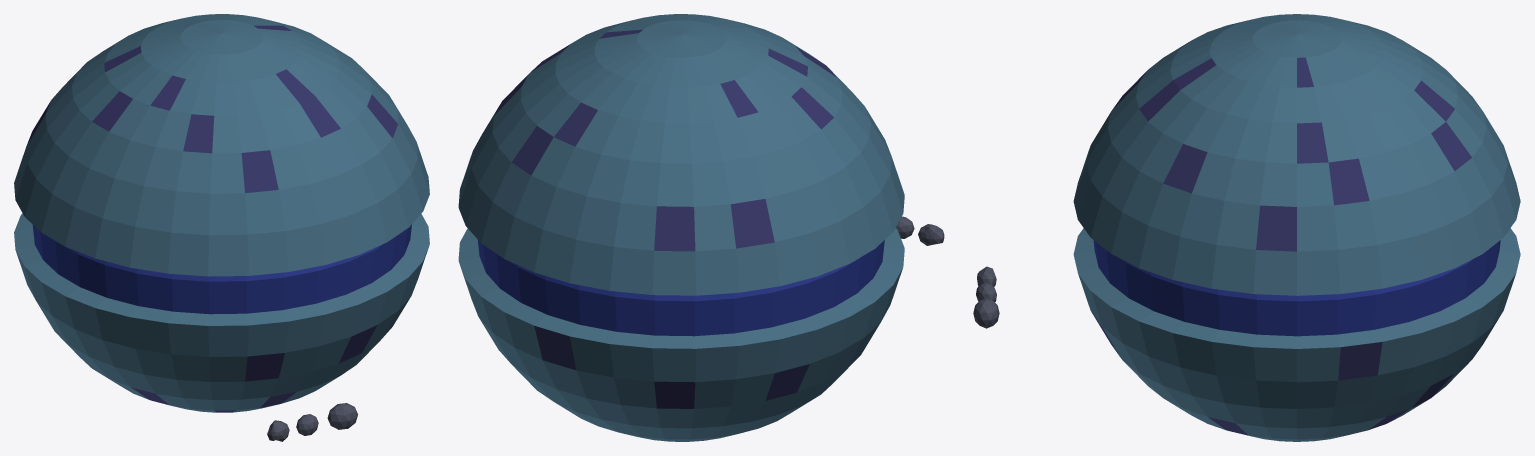
Rendered from Blue planet with asteroids.fbx.
3 renders of one model, left to right at view 1: azimuth 30°, elevation 25°; view 2: azimuth 150°, elevation 25°; view 3: azimuth 270°, elevation 25°, orthographic. The views are drawn at different scales.
Parts seen in each view (by area): view 1: PlanetBleue, Asteroid02; view 2: PlanetBleue; view 3: PlanetBleue, Asteroid02.
Boxes of the visible parts, x1,y1,x2,y2 form: PlanetBleue: (14, 14, 429, 412); Asteroid02: (327, 403, 357, 429); PlanetBleue: (458, 14, 904, 441); PlanetBleue: (1073, 14, 1520, 441); Asteroid02: (973, 298, 999, 328).
Size of the model in its own units: 15.01 by 14.29 by 18.37.
